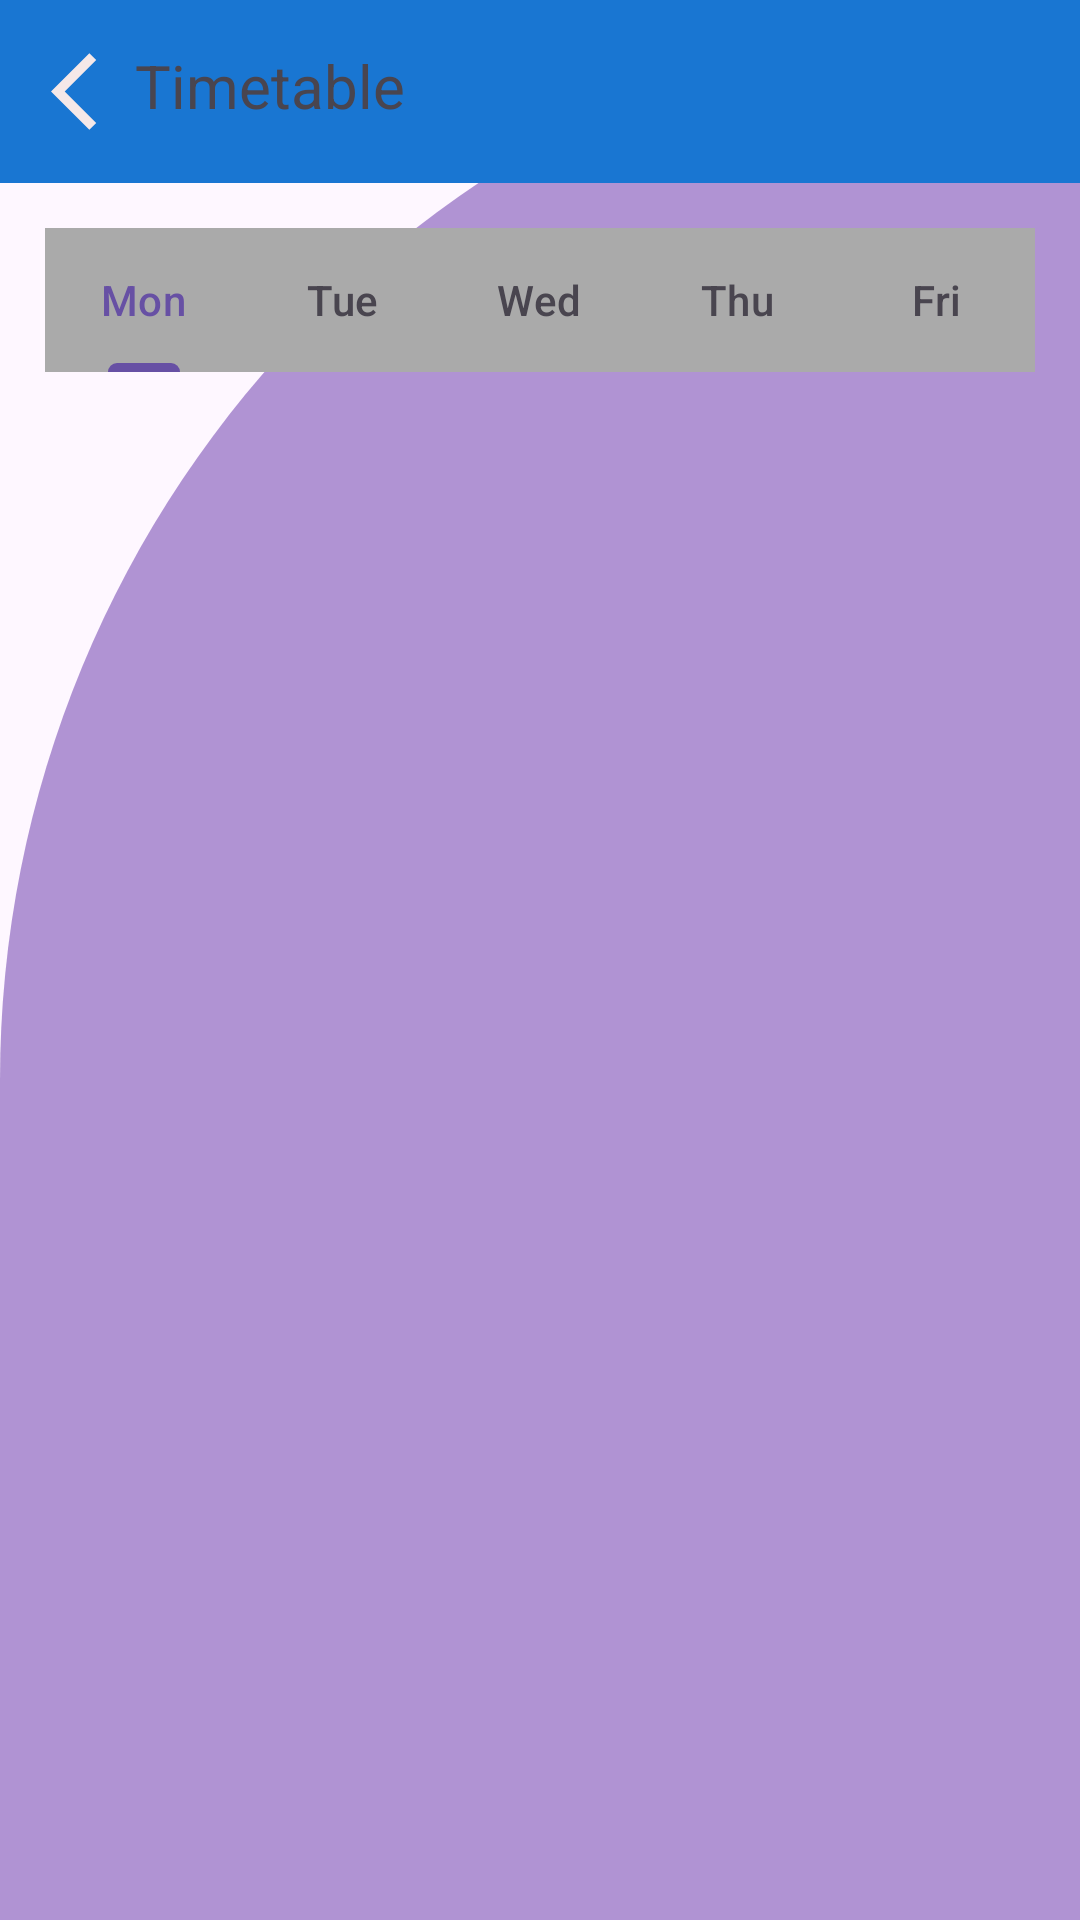

Locate icon controls on the screen. Image size 1080×1920, boxes as (x1, y1, x2, y2).
backbutton: (51, 53, 96, 130)
